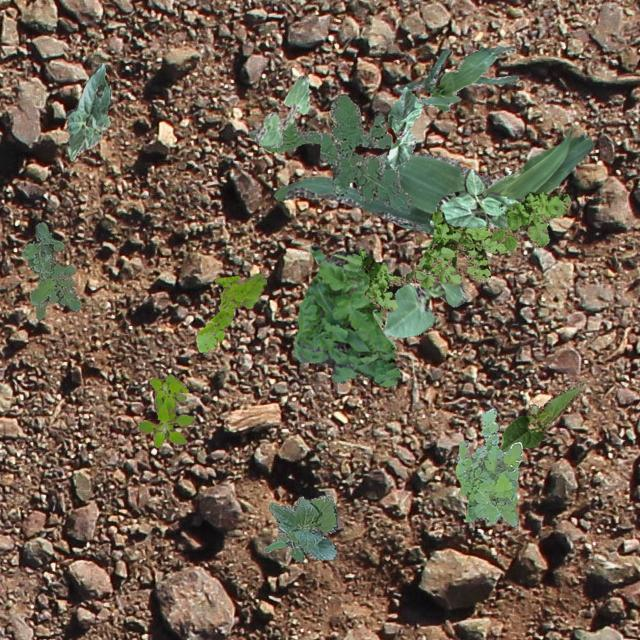crop: (268, 130, 594, 234), (395, 44, 517, 110), (498, 380, 582, 450), (428, 168, 522, 228), (262, 494, 336, 560), (382, 281, 464, 337), (64, 62, 110, 160), (254, 76, 308, 146), (386, 86, 421, 166)
weed: (358, 190, 570, 312), (246, 92, 409, 208), (294, 244, 398, 386), (454, 406, 520, 526), (20, 222, 80, 318), (196, 272, 266, 352), (138, 374, 194, 446)
